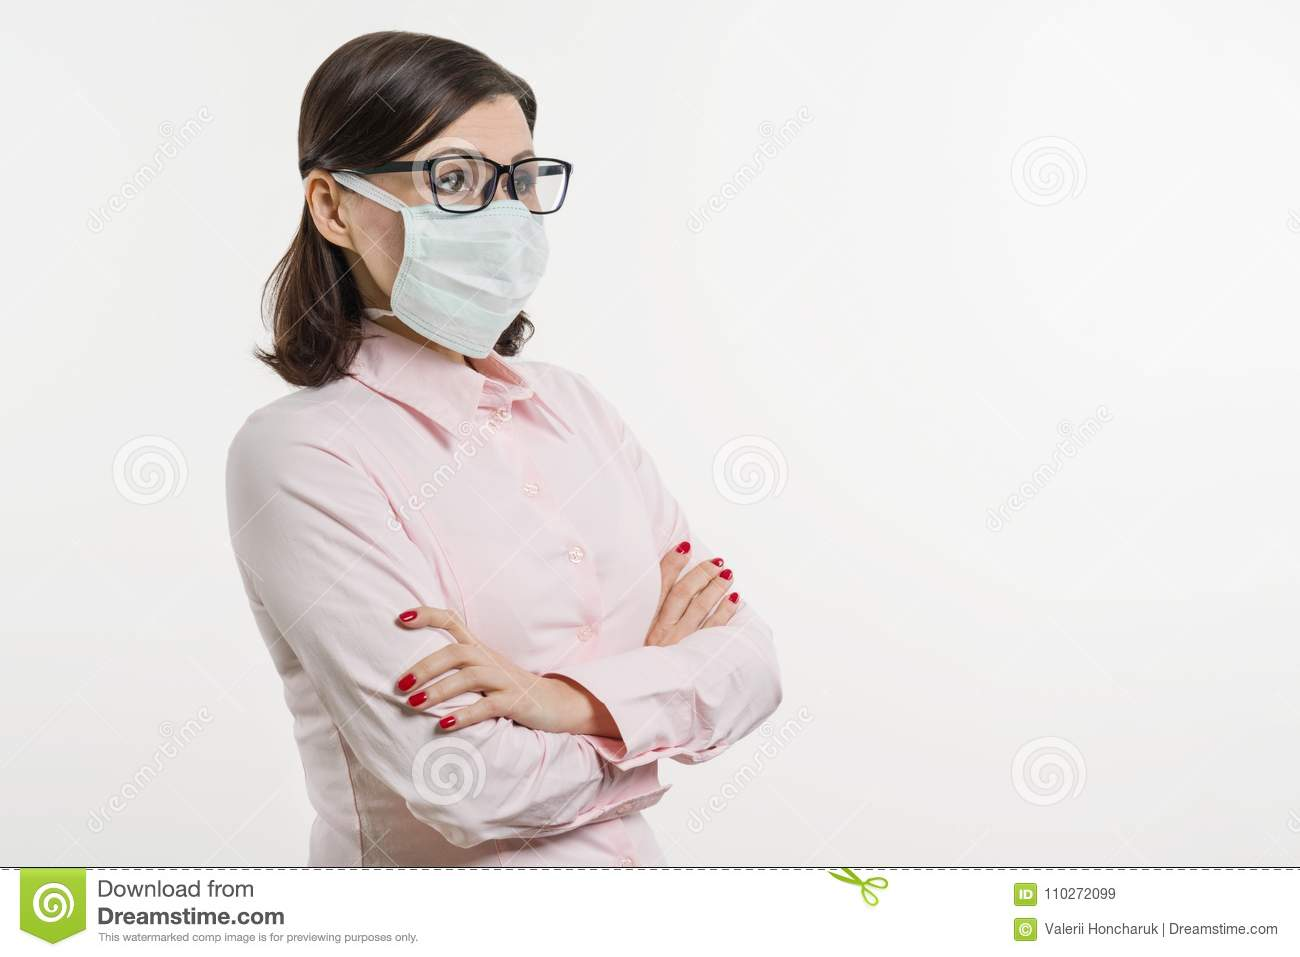mask: (386, 200, 553, 359)
